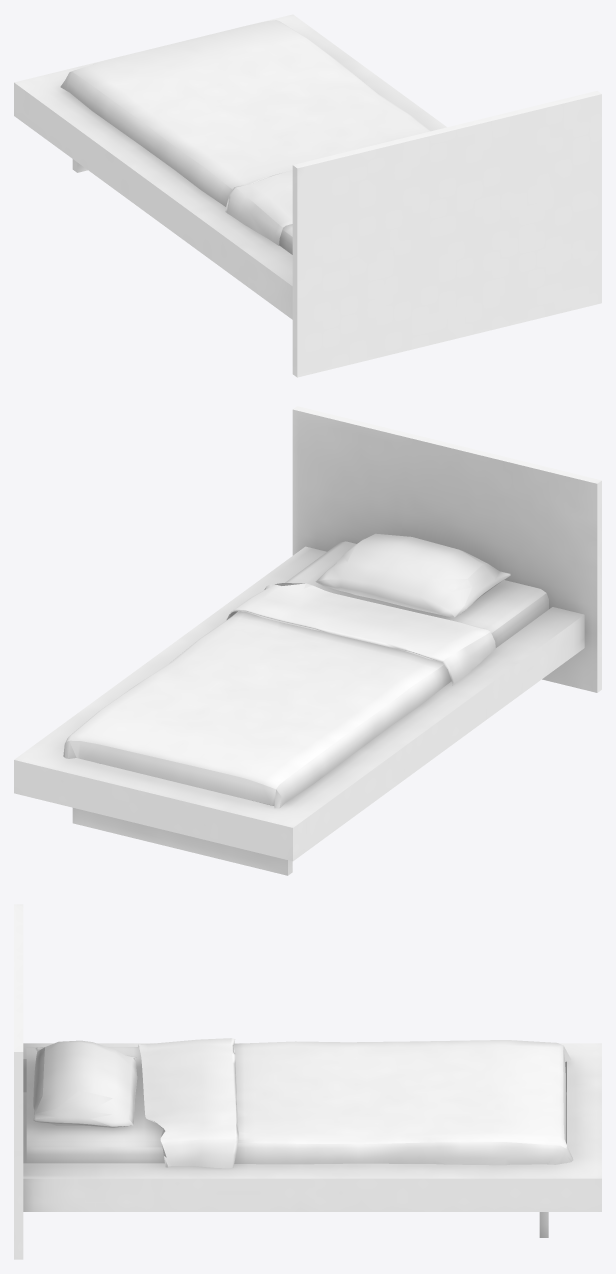
Rendered from BedSmall.glb.
3 views of the same model, one above another, from view 1: azimuth 30°, elevation 25°; view 2: azimuth 150°, elevation 25°; view 3: azimuth 270°, elevation 25° (orthographic).
Parts seen in each view (by area): view 1: BedSmall, BedSmall.001; view 2: BedSmall, BedSmall.001, BedSmall.002, BedSmall.003; view 3: BedSmall.001, BedSmall, BedSmall.002, BedSmall.003.
Boxes of the visible parts, x1,y1,x2,y2 form: BedSmall: (14, 14, 601, 377); BedSmall.001: (60, 20, 430, 245); BedSmall: (14, 406, 601, 875); BedSmall.001: (63, 583, 495, 808); BedSmall.002: (315, 533, 510, 617); BedSmall.003: (260, 541, 548, 805); BedSmall.001: (138, 1038, 573, 1168); BedSmall: (14, 904, 601, 1259); BedSmall.002: (33, 1040, 137, 1127); BedSmall.003: (26, 1047, 164, 1163).
Size of the model in its own units: 1.25 by 0.8185 by 2.1.
1 material, 1 textured.
